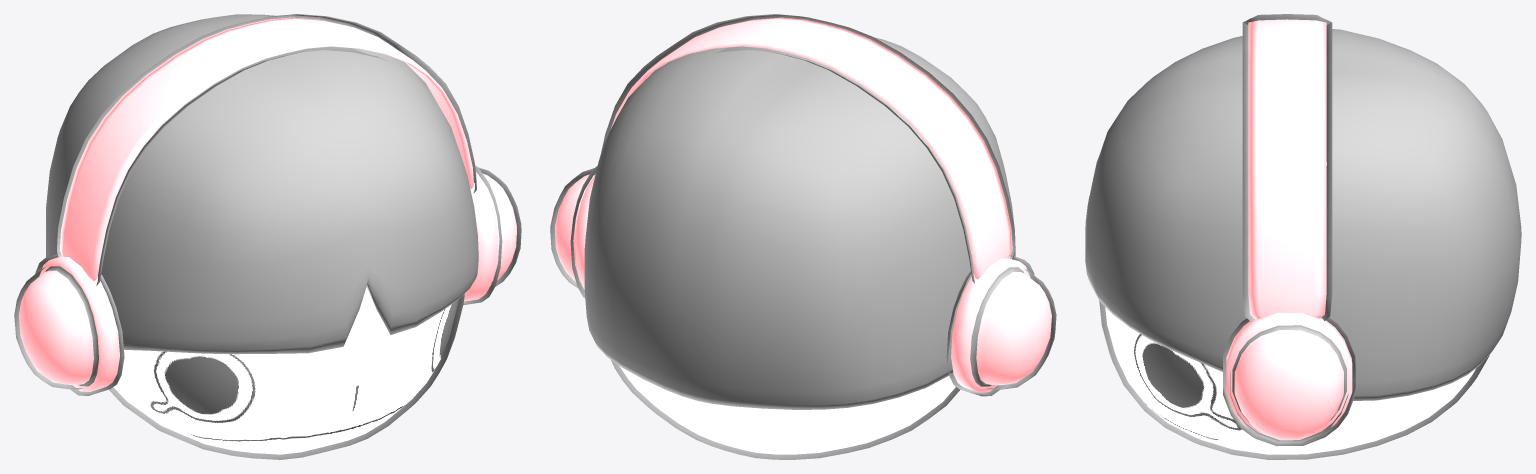
File: head_new.glb
The picture shows the model from 3 angles, left to right: view 1: azimuth 30°, elevation 25°; view 2: azimuth 150°, elevation 25°; view 3: azimuth 270°, elevation 25°; orthographic projection.
Visible parts, largest first — view 1: Head; view 2: Head; view 3: Head.
Part boxes in pixels (box(x1,y1,x2,y2)): Head: box(14, 14, 521, 459); Head: box(550, 14, 1056, 459); Head: box(1085, 14, 1521, 459).
Bounding box in the file's own units: 6.72 × 5.32 × 5.28.
